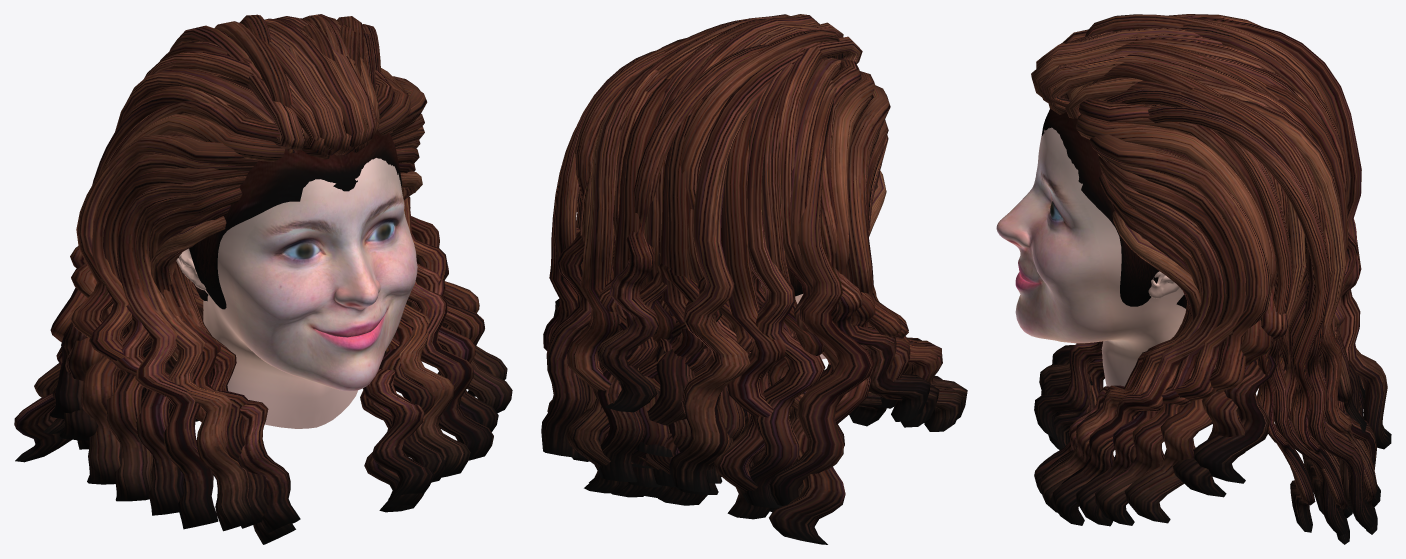
File: funny_smile.obj
3 views of the same model, side by side, from view 1: azimuth 30°, elevation 25°; view 2: azimuth 150°, elevation 25°; view 3: azimuth 270°, elevation 25° (orthographic). The views are drawn at different scales.
Parts seen in each view (by area): view 1: funny_smile; view 2: funny_smile; view 3: funny_smile.
Part boxes in pixels (box(x1,y1,x2,y2)): funny_smile: box(14, 14, 512, 544); funny_smile: box(541, 14, 967, 544); funny_smile: box(996, 14, 1391, 544).
Size of the model in its own units: 365 by 387 by 298.
